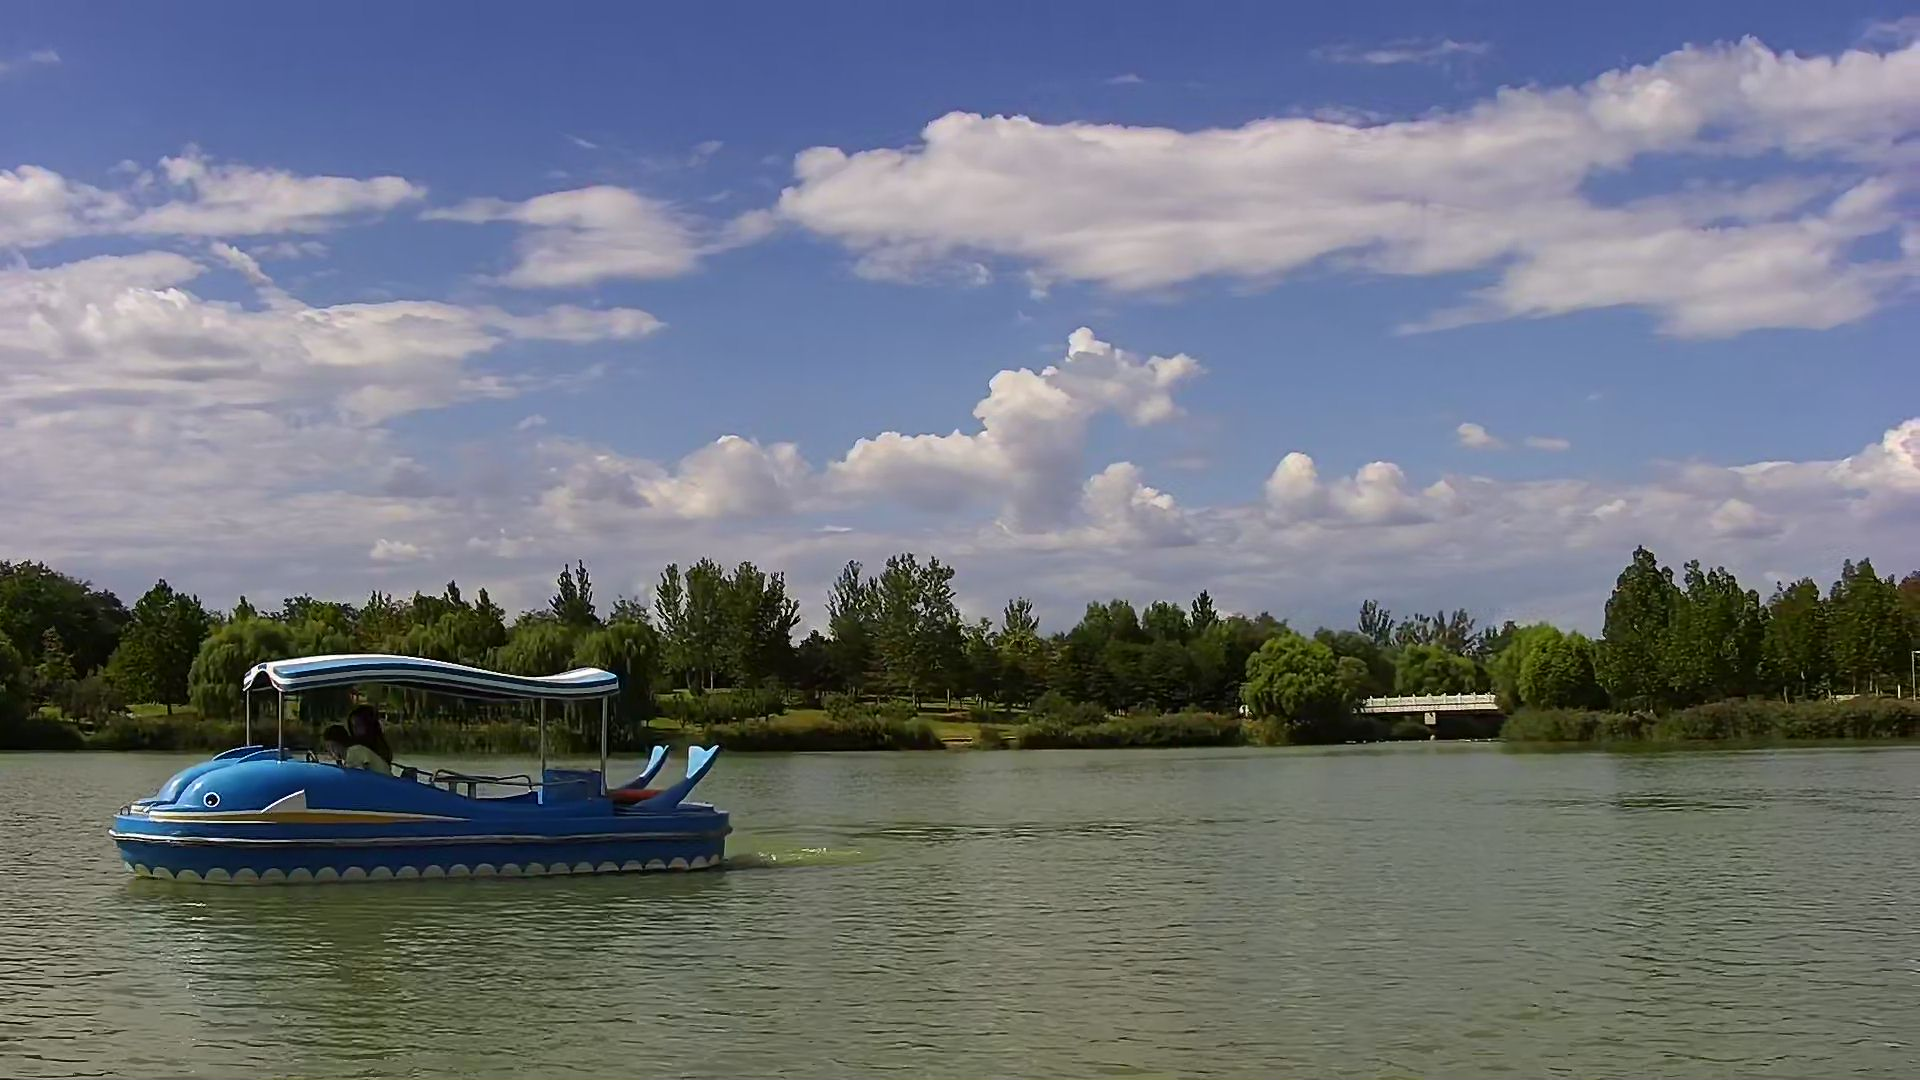boat: (106, 652, 730, 890)
bridge: (1363, 689, 1497, 739)
person: (328, 707, 390, 777)
